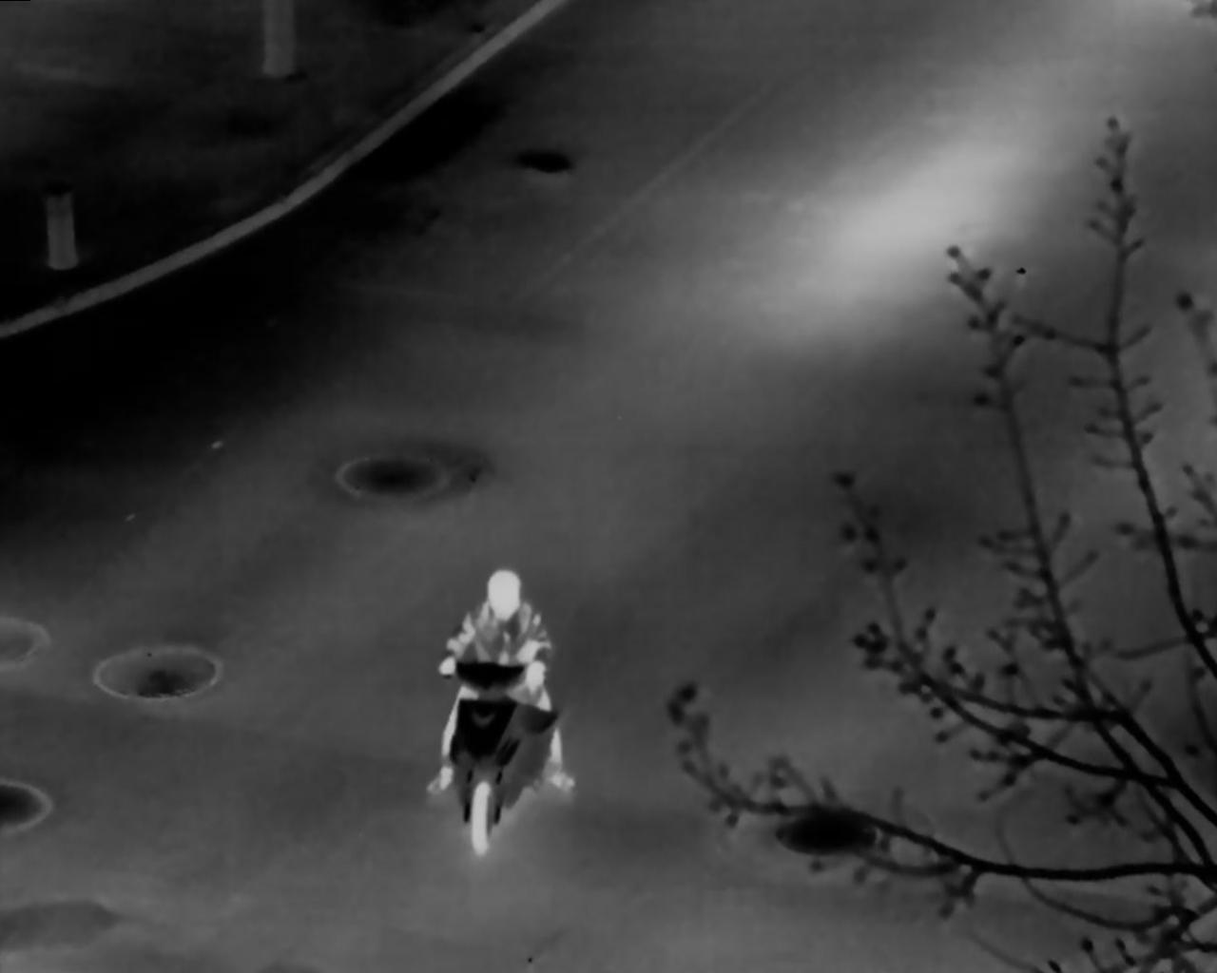person: (431, 567, 570, 792)
